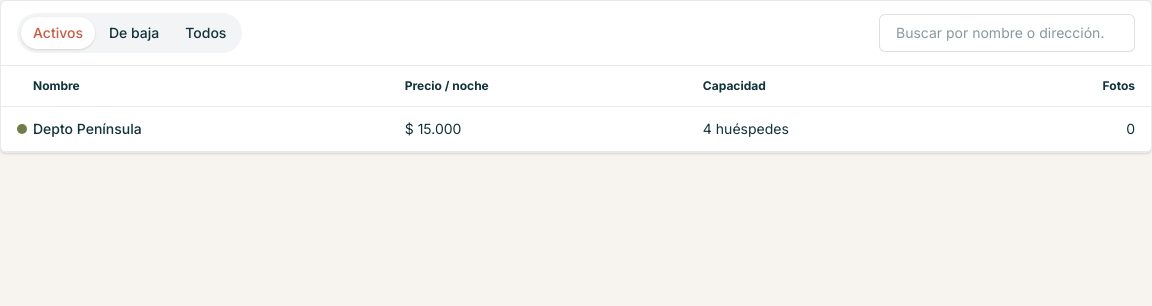
Test: AlojamientosTable — fila expandible › sin dirección cargada, muestra el placeholder
Click the text "Depto Península". click: (87, 128)
box: [33,106,405,152]
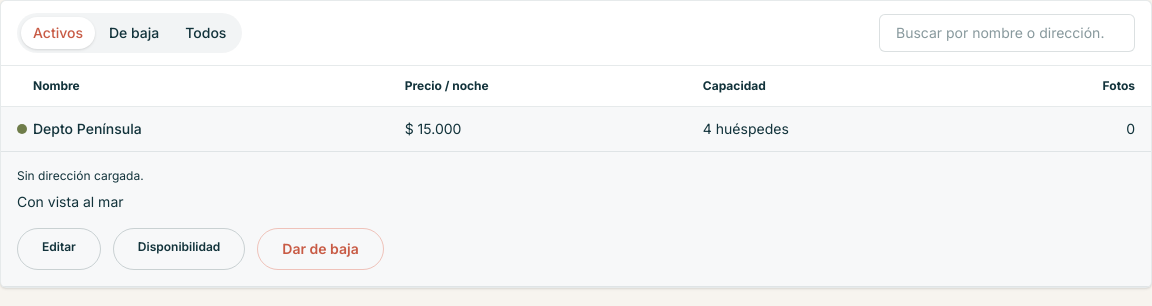
Check: the text "Sin dirección cargada." is shown, box [17,168,144,183]
